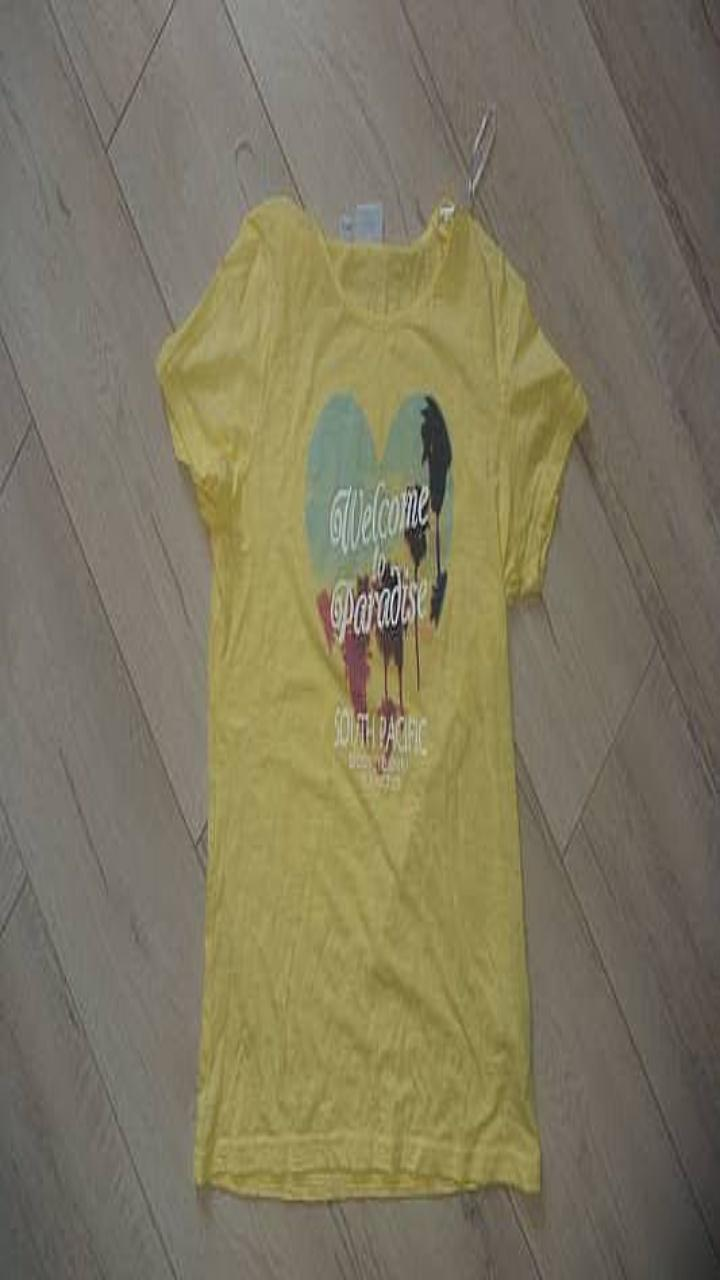T-Shirt: (156, 196, 586, 1199)
